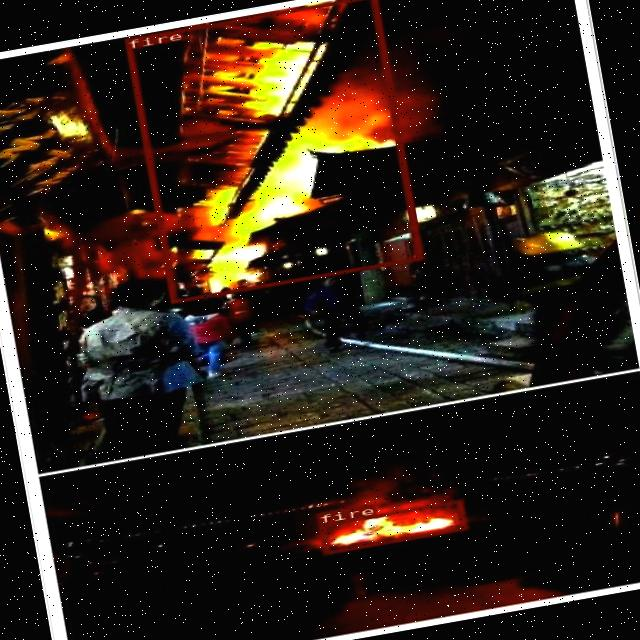fire: (124, 0, 422, 302), (316, 499, 466, 554)
